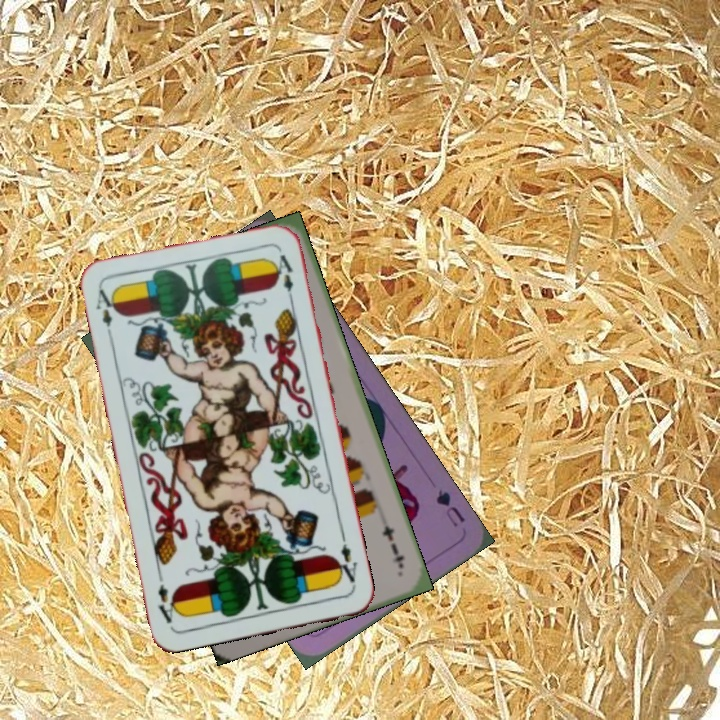E7: (378, 521, 407, 571)
EA: (331, 531, 360, 590), (91, 285, 120, 343)
GU: (432, 485, 468, 530)
